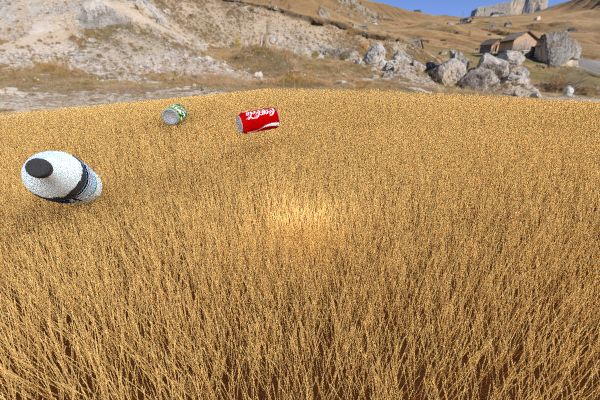Plastic Bottle: (21, 150, 102, 204), (235, 107, 279, 134), (161, 104, 186, 125)
